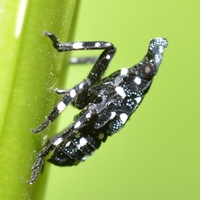insect: (28, 32, 167, 183)
